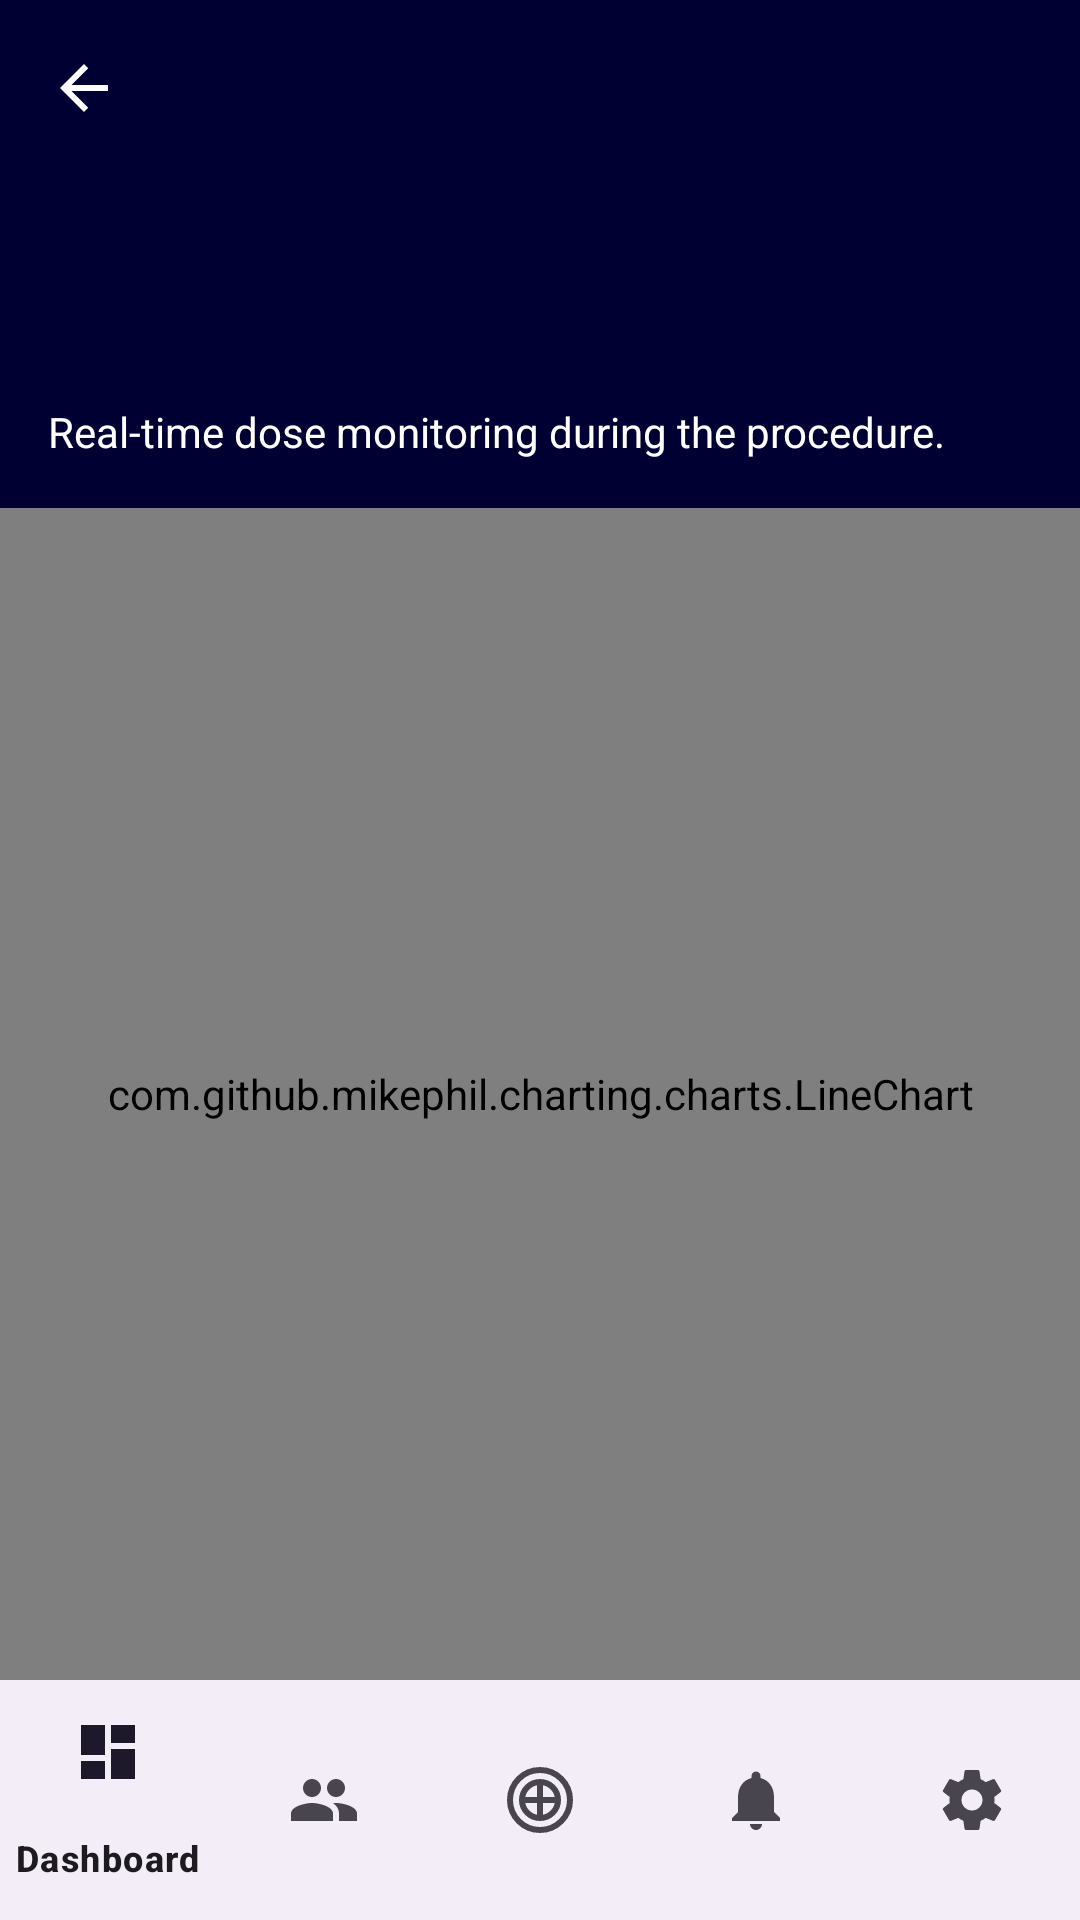

Icon bounding boxes for this 1080px×1920px phone screenshot, format rect(x1, y1, x2, y2):
arrow back: rect(60, 64, 108, 112)
